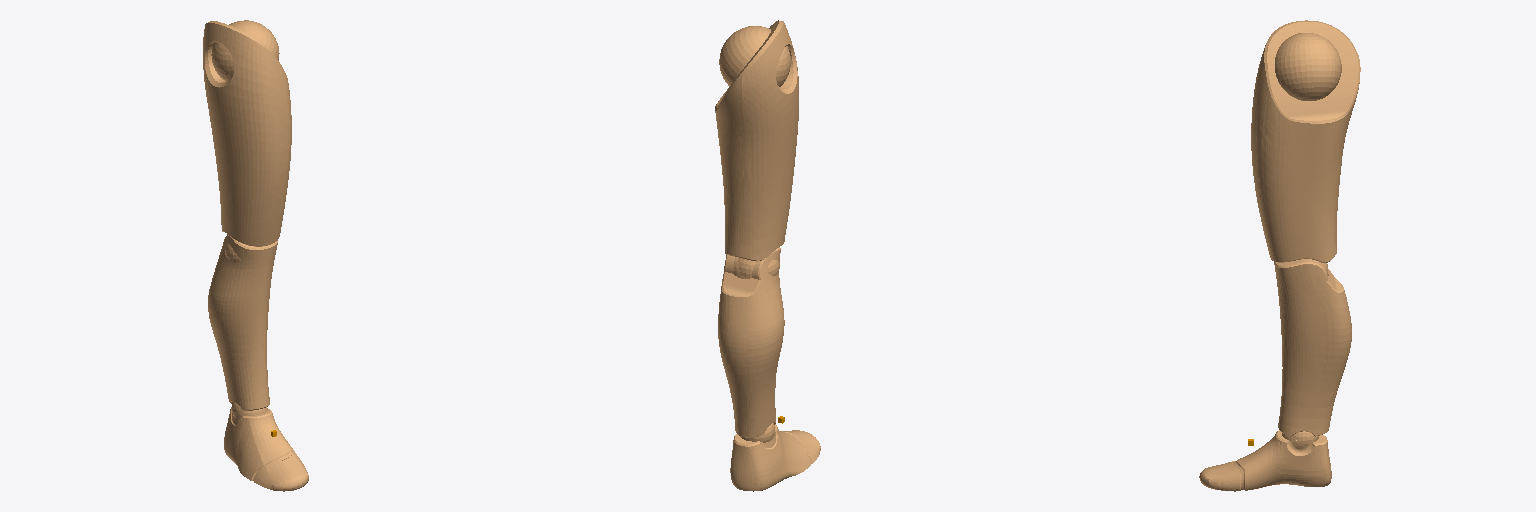
The robot description file, URDF, robot "right_leg":
<?xml version="1.0" ?>
<robot name="right_leg">

  <material name="skin">
    <color rgba="0.9 0.72 0.53 1.000"/>
  </material>

  <link name="base_link">
    <inertial>
      <origin xyz="0.0 0.0 0.0" rpy="0 0 0"/>
      <mass value="0.0"/>
      <inertia ixx="0.0" iyy="0.0" izz="0.0" ixy="0.0" iyz="0.0" ixz="0.0"/>
    </inertial>
  </link>

  <joint name="base_fixed" type="fixed">
    <origin rpy="0 0 0.0" xyz="0 0 0.0"/>
    <parent link="base_link"/>
    <child link="base_link_0"/>
  </joint>

  <link name="base_link_0">
    <inertial>
      <origin xyz="0.0 0.0 0.0" rpy="0 0 0"/>
      <mass value="0.0"/>
      <inertia ixx="0.0" iyy="0.0" izz="0.0" ixy="0.0" iyz="0.0" ixz="0.0"/>
    </inertial>
  </link>

  <link name="base_link_1">
    <inertial>
      <origin xyz="0.0 0.0 0.0" rpy="0 0 0"/>
      <mass value="0.0"/>
      <inertia ixx="0.0" iyy="0.0" izz="0.0" ixy="0.0" iyz="0.0" ixz="0.0"/>
    </inertial>
  </link>

  <link name="base_link_2">
    <inertial>
      <origin xyz="0.0 0.0 0.0" rpy="0 0 0"/>
      <mass value="0.0"/>
      <inertia ixx="0.0" iyy="0.0" izz="0.0" ixy="0.0" iyz="0.0" ixz="0.0"/>
    </inertial>
  </link>

    <link name="foot_x">
    <inertial>
      <origin xyz="0.0 0.0 0.0" rpy="0 0 0"/>
      <mass value="0.0"/>
      <inertia ixx="0.0" iyy="0.0" izz="0.0" ixy="0.0" iyz="0.0" ixz="0.0"/>
    </inertial>
  </link>

  <link name="upper_leg">
    <inertial>
      <origin xyz="0.00277 -0.00352 -0.098" rpy="0 0 0"/>
      <mass value="1.0"/>
      <inertia ixx="0.00691" iyy="0.00674" izz="0.00097" ixy="-6.65745e-06" iyz="-7.0718e-05" ixz="0.00015"/>
    </inertial>
    <visual>
      <origin xyz="0 0 0" rpy="0 0 0"/>
      <geometry>
        <mesh filename="meshes/right_upper_leg.stl" scale="1.0 1.0 1.0"/>
      </geometry>
      <material name="skin"/>
    </visual>
    <collision>
      <origin xyz="0 0 0" rpy="0 0 0"/>
      <geometry>
        <mesh filename="meshes/right_upper_leg.stl" scale="1.0 1.0 1.0"/>
      </geometry>
    </collision>
  </link>

  <link name="lower_leg">
    <inertial>
      <origin xyz="0.01457 9.28389e-05 -0.19143" rpy="0 0 0"/>
      <mass value="1.0"/>
      <inertia ixx="0.01712" iyy="0.01699" izz="0.00072" ixy="-5.34657e-05" iyz="-0.00071" ixz="0.00031"/>
    </inertial>
    <visual>
      <origin xyz="0.0 0.0 0.0" rpy="0 0 0"/>
      <geometry>
        <mesh filename="meshes/right_lower_leg_without_foot.stl" scale="1.0 1.0 1.0"/>
      </geometry>
      <material name="skin"/>
    </visual>
    <collision>
      <origin xyz="0.0 0.0 0.0" rpy="0 0 0"/>
      <geometry>
        <mesh filename="meshes/right_lower_leg_without_foot.stl" scale="1.0 1.0 1.0"/>
      </geometry>
    </collision>
  </link>

  <link name="foot">
    <inertial>
      <origin xyz="0.16051 -0.012319 0.075256" rpy="0 0 0"/>
      <mass value="1.0"/>
      <inertia ixx="0.01712" iyy="0.01699" izz="0.00072" ixy="-5.34657e-05" iyz="-0.00071" ixz="0.00031"/>
    </inertial>
    <visual>
      <origin xyz="0.0 0.0 0.0" rpy="0 0 0"/>
      <geometry>
        <mesh filename="meshes/right_foot.stl" scale="1.0 1.0 1.0"/>
      </geometry>
      <material name="skin"/>
    </visual>
    <collision>
      <origin xyz="0.0 0.0 0.0" rpy="0 0 0"/>
      <geometry>
        <mesh filename="meshes/right_foot.stl" scale="1.0 1.0 1.0"/>
      </geometry>
    </collision>
  </link>

  <joint name="base_x" type="continuous">
    <origin xyz="0.0 0.0 0.0" rpy="0 0 0"/>
    <parent link="base_link_0"/>
    <child link="base_link_1"/>
    <axis xyz="1.0 0.0 0.0"/>
    <!-- <limit effort="100" lower="-1.57" upper="1.57" velocity="5.0"/> -->
  </joint>

  <joint name="base_y" type="continuous">
    <origin xyz="0.0 0.0 0.0" rpy="0 0 0"/>
    <parent link="base_link_1"/>
    <child link="base_link_2"/>
    <axis xyz="0.0 1.0 0.0"/>
    <!-- <limit effort="100" lower="-1.57" upper="0" velocity="5.0"/> -->
  </joint>

  <joint name="base_z" type="continuous">
    <origin xyz="0.0 0.0 0.0" rpy="0 0 0"/>
    <parent link="base_link_2"/>
    <child link="upper_leg"/>
    <axis xyz="0.0 0.0 1.0"/>
    <!-- <limit effort="100" lower="0.0" upper="1.57" velocity="5.0"/> -->
  </joint>

  <joint name="upper_to_lower" type="continuous">
    <origin xyz="0.0 0.0 -0.430301" rpy="0 0 0"/>
    <parent link="upper_leg"/>
    <child link="lower_leg"/>
    <axis xyz="1.0 0.0 0.0"/>
    <!-- <limit effort="100" lower="-2.0944" upper="0.0" velocity="5.0"/> -->
  </joint>


  <joint name="lower_to_foot_x" type="continuous">
    <origin xyz="0.0 0.0 -0.35039" rpy="0 0 0"/>
    <parent link="lower_leg"/>
    <child link="foot_x"/>
    <axis xyz="1.0 0.0 0.0"/>
    <!-- <limit effort="100" lower="-2.0944" upper="0.0" velocity="5.0"/> -->
  </joint>


  <joint name="lower_to_foot" type="continuous">
    <origin xyz="0.0 0.0 0.0" rpy="0 0 0"/>
    <parent link="foot_x"/>
    <child link="foot"/>
    <axis xyz="0.0 1.0 0.0"/>
    <!-- <limit effort="100" lower="-2.0944" upper="0.0" velocity="5.0"/> -->
  </joint>



  <joint name="grasp_fixed_joint" type="fixed">
    <parent link="foot"/>
    <child link="ee_link"/>
    <origin rpy="0.0 0.0 0.0" xyz="0.0 -0.1 -0.02"/>
  </joint>

  <link name="ee_link">
    <inertial>
      <origin xyz="0.0 0.0 0.0" rpy="0 0 0"/>
      <mass value="0.0"/>
      <inertia ixx="0.0" iyy="0.0" izz="0.0" ixy="0.0" iyz="0.0" ixz="0.0"/>
    </inertial>
    <visual>
      <geometry>
        <box size="0.01 0.01 0.01"/>
      </geometry>
      <origin rpy="0 0 0" xyz="0.0 0 0"/>
    </visual>
  </link>

</robot>

--- What the picture shows (computed from the rendered views, not written in the file) ---
3 views of the same robot in one strip: view 1: azimuth 30°, elevation 25°; view 2: azimuth 150°, elevation 25°; view 3: azimuth 270°, elevation 25° (orthographic).
Model right_leg with 9 links and 8 joints (6 continuous, 2 fixed), rooted at base_link, posed every joint at zero.
Links seen in each view (by area): view 1: upper_leg, lower_leg, foot; view 2: upper_leg, lower_leg, foot; view 3: upper_leg, lower_leg, foot.
Link boxes in pixels (x1,y1,x2,y2): upper_leg: (203, 20, 291, 262); lower_leg: (208, 234, 277, 414); foot: (224, 407, 308, 491); upper_leg: (715, 20, 798, 278); lower_leg: (718, 247, 784, 437); foot: (730, 424, 820, 491); upper_leg: (1251, 20, 1360, 267); lower_leg: (1274, 259, 1351, 439); foot: (1199, 430, 1331, 491).
Bounding box of the posed robot: 0.1495 × 0.3127 × 0.9649 m (x, y, z).
Meshes: 3 distinct files referenced, 3 mesh visuals loaded (3 binary STL).